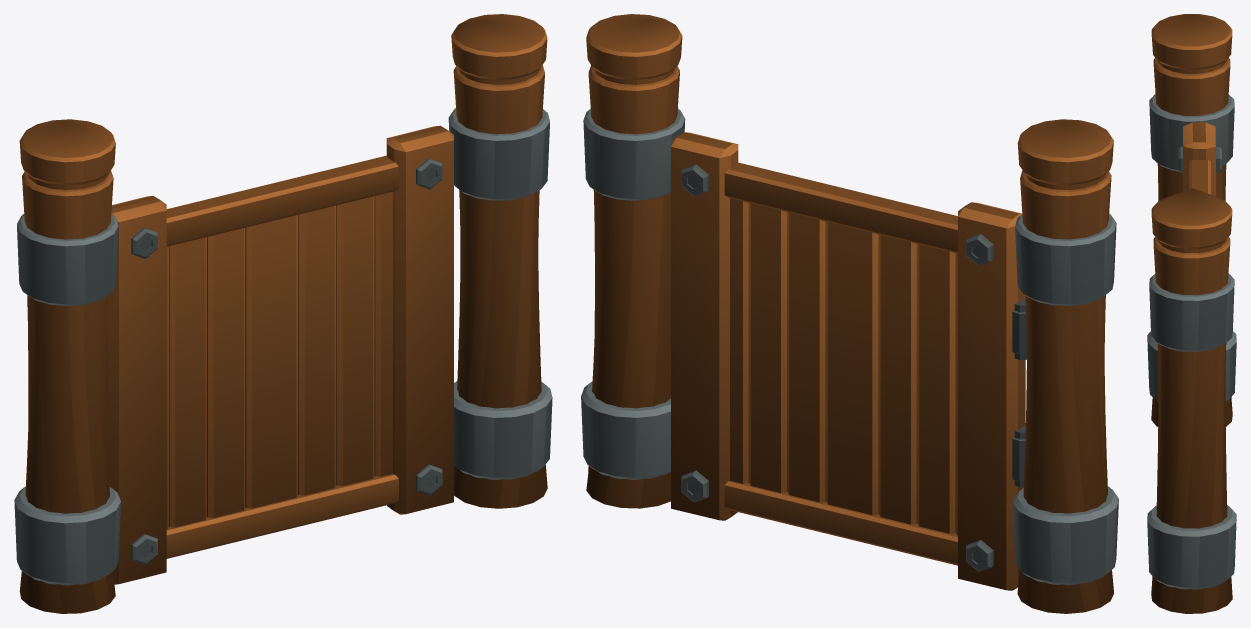
File: Door-2-1.fbx
3 views of the same model, side by side, from view 1: azimuth 30°, elevation 25°; view 2: azimuth 150°, elevation 25°; view 3: azimuth 270°, elevation 25° (orthographic). The views are drawn at different scales.
Visible parts, largest first — view 1: Door-2-1; view 2: Door-2-1; view 3: Door-2-1.
Part boxes in pixels (x1,y1,x2,y2): Door-2-1: (14,14,552,613); Door-2-1: (581,14,1118,613); Door-2-1: (1147,14,1236,613).
Size of the model in its own units: 229 by 199 by 39.97.
